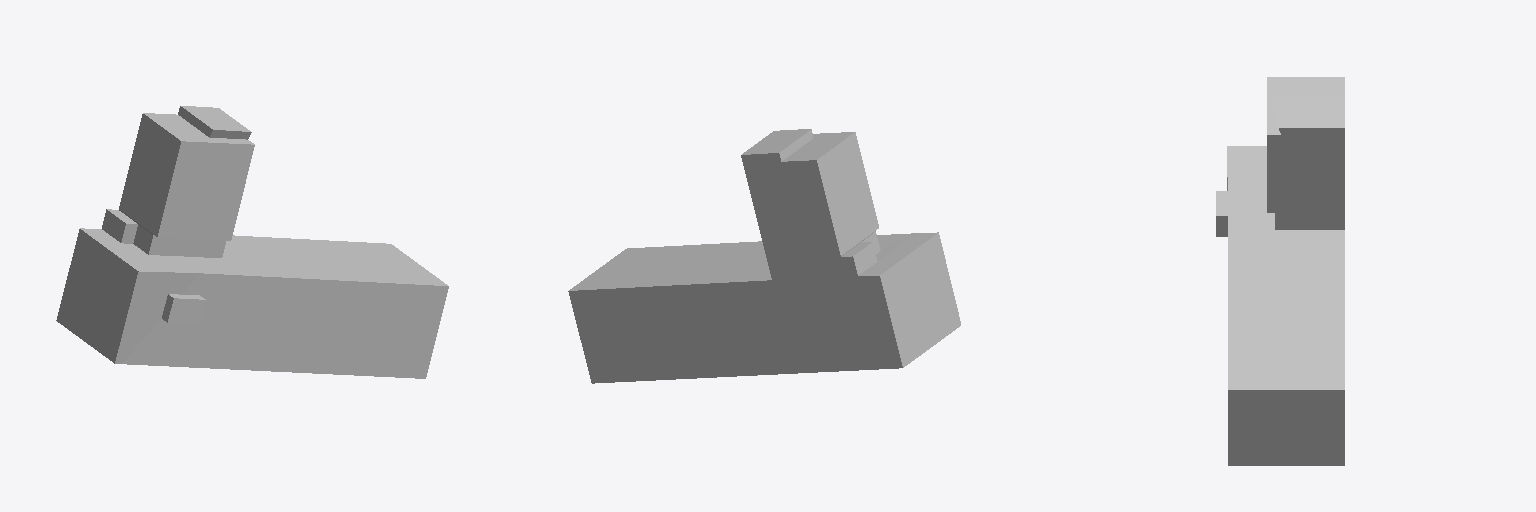
File: talo_Build0000038.obj
3 renders of one model, left to right at view 1: azimuth 30°, elevation 25°; view 2: azimuth 150°, elevation 25°; view 3: azimuth 270°, elevation 25°, orthographic.
Size of the model in its own units: 58.64 by 46.6 by 19.57.